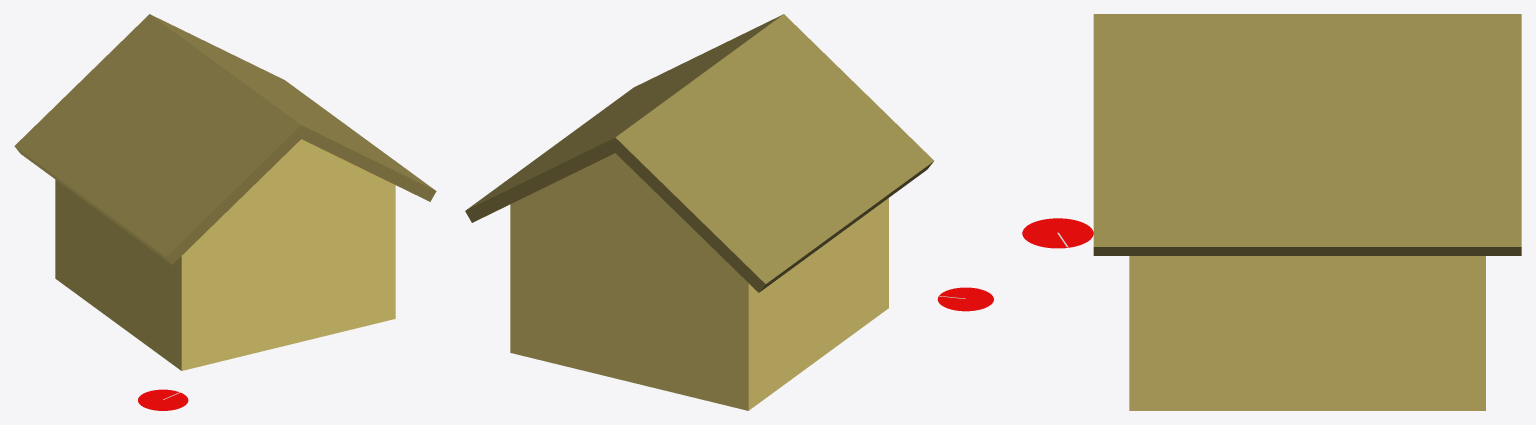
The model's file is result.glb.
The picture shows the model from 3 angles, left to right: view 1: azimuth 30°, elevation 25°; view 2: azimuth 150°, elevation 25°; view 3: azimuth 270°, elevation 25°; orthographic projection. The views are drawn at different scales.
Visible parts, largest first — view 1: a31e5817-5010-4608-a696-afbf3b0d4cf4__undefined, 9a080834-4f07-4818-8a32-7726c572a59b__undefined (×2), 3b010bf4-7fd5-4d1e-afe8-9dfc9509e1f4__Circle; view 2: a31e5817-5010-4608-a696-afbf3b0d4cf4__undefined, 9a080834-4f07-4818-8a32-7726c572a59b__undefined (×2), 3b010bf4-7fd5-4d1e-afe8-9dfc9509e1f4__Circle; view 3: 9a080834-4f07-4818-8a32-7726c572a59b__undefined, a31e5817-5010-4608-a696-afbf3b0d4cf4__undefined, 3b010bf4-7fd5-4d1e-afe8-9dfc9509e1f4__Circle.
Part boxes in pixels (bbox=[...]): a31e5817-5010-4608-a696-afbf3b0d4cf4__undefined: bbox=[55, 139, 395, 370]; 9a080834-4f07-4818-8a32-7726c572a59b__undefined (×2): bbox=[14, 14, 436, 264]; 3b010bf4-7fd5-4d1e-afe8-9dfc9509e1f4__Circle: bbox=[138, 389, 188, 410]; a31e5817-5010-4608-a696-afbf3b0d4cf4__undefined: bbox=[510, 153, 888, 410]; 9a080834-4f07-4818-8a32-7726c572a59b__undefined (×2): bbox=[465, 14, 933, 292]; 3b010bf4-7fd5-4d1e-afe8-9dfc9509e1f4__Circle: bbox=[937, 287, 993, 311]; 9a080834-4f07-4818-8a32-7726c572a59b__undefined: bbox=[1093, 14, 1521, 255]; a31e5817-5010-4608-a696-afbf3b0d4cf4__undefined: bbox=[1129, 256, 1485, 410]; 3b010bf4-7fd5-4d1e-afe8-9dfc9509e1f4__Circle: bbox=[1022, 218, 1093, 248].
Size of the model in its own units: 703 by 500 by 700.
